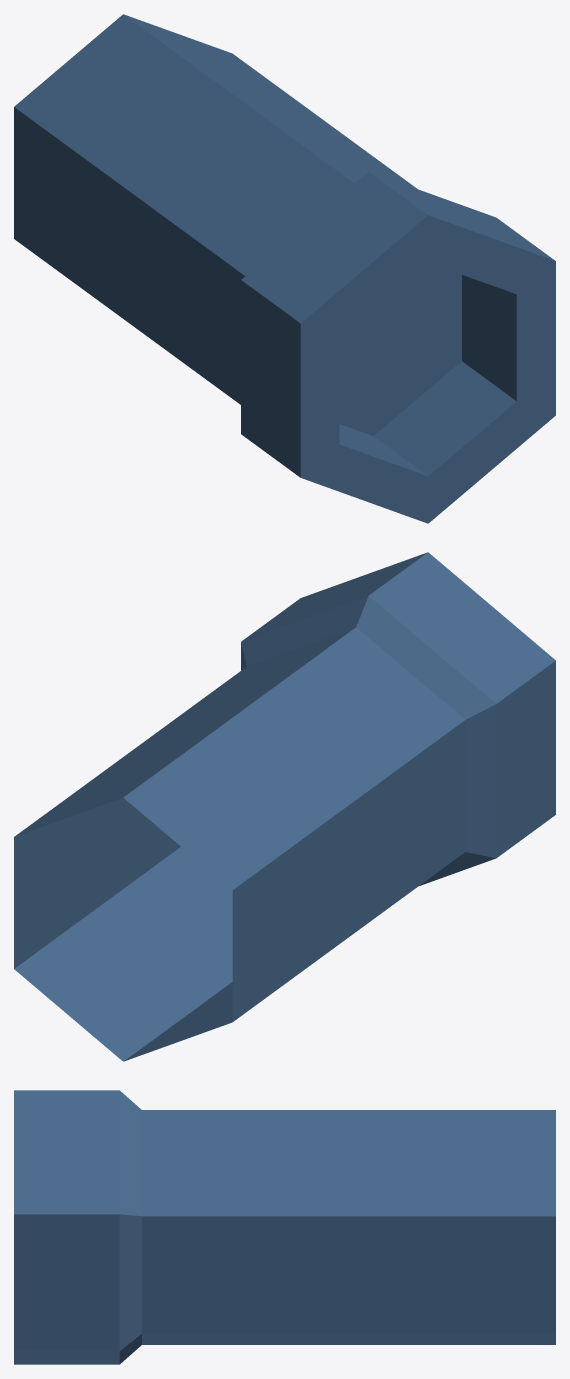
File: shipCannon.obj
3 renders of one model, top to bottom at view 1: azimuth 30°, elevation 25°; view 2: azimuth 150°, elevation 25°; view 3: azimuth 270°, elevation 25°, orthographic. The views are drawn at different scales.
Parts seen in each view (by area): view 1: lazorCannon_Cylinder.001; view 2: lazorCannon_Cylinder.001; view 3: lazorCannon_Cylinder.001.
Part boxes in pixels (bbox=[...]): lazorCannon_Cylinder.001: bbox=[14, 14, 555, 523]; lazorCannon_Cylinder.001: bbox=[14, 552, 555, 1061]; lazorCannon_Cylinder.001: bbox=[14, 1090, 555, 1364].
Size of the model in its own units: 0.1035 by 0.1195 by 0.2141.
